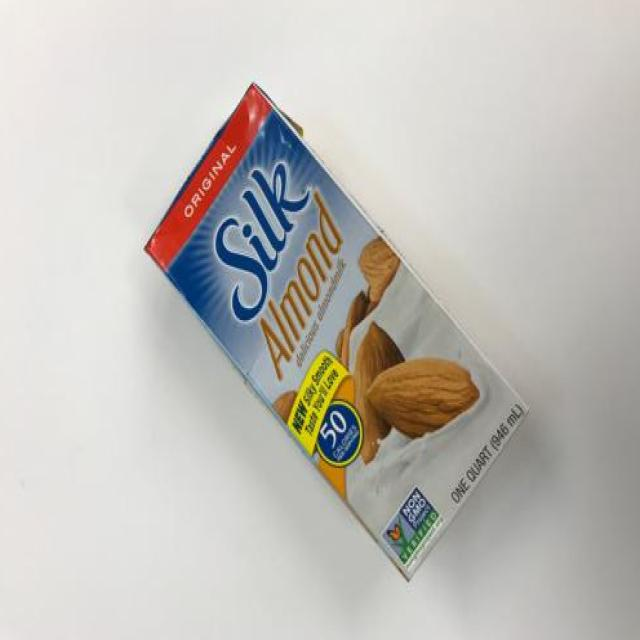kertas: (143, 83, 531, 584)
